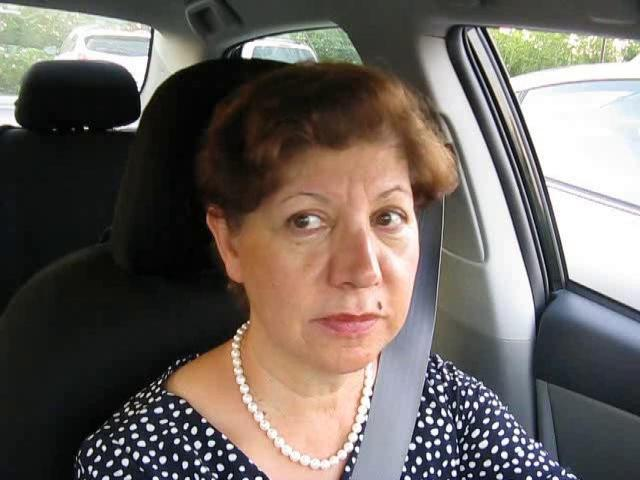eye_open: (276, 206, 332, 237), (370, 203, 413, 234)
face: (255, 165, 423, 375)
